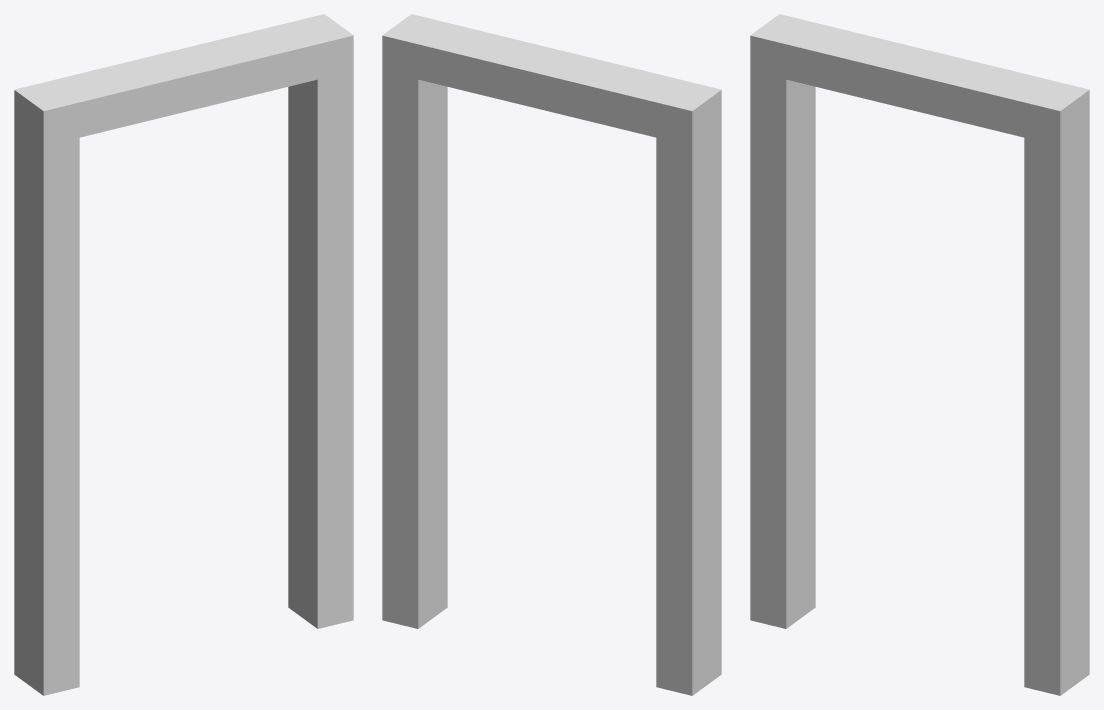
The model's file is door_frame_001.glb.
3 views of the same model, side by side, from view 1: azimuth 30°, elevation 25°; view 2: azimuth 150°, elevation 25°; view 3: azimuth 330°, elevation 25° (orthographic).
Visible parts, largest first — view 1: door_frame_001; view 2: door_frame_001; view 3: door_frame_001.
Boxes of the visible parts, x1,y1,x2,y2 form: door_frame_001: (14, 14, 353, 695); door_frame_001: (382, 14, 721, 695); door_frame_001: (750, 14, 1089, 695).
Size of the model in its own units: 1.34 by 2.41 by 0.2204.
Materials: 1 (1 with a texture image).
